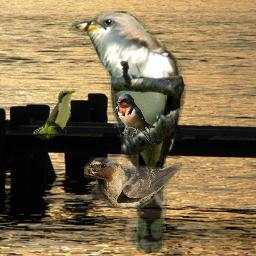Cuckoo: (69, 11, 186, 253), (33, 89, 77, 140)
Swallow: (84, 157, 184, 211), (114, 93, 155, 145)
